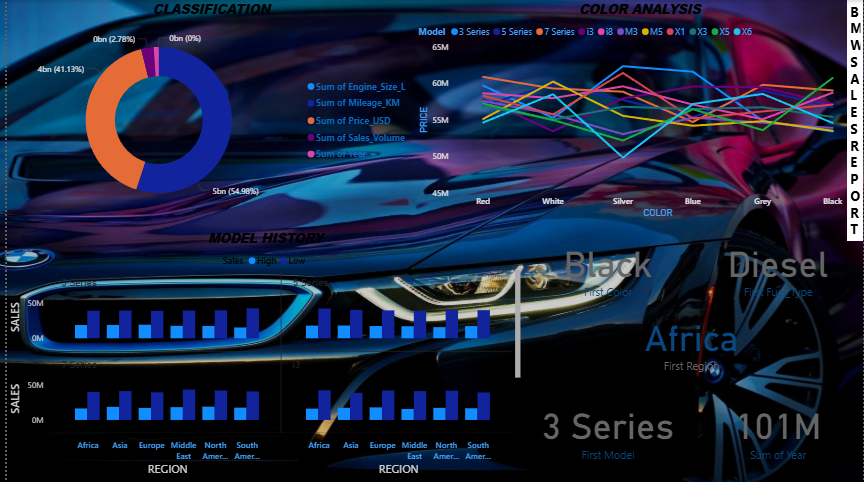

The page's visual inventory and layout, read from the dashboard file:
{"tool":"powerbi","page":{"name":"Page 1","canvas":[1280,720],"ordinal":0},"visuals":[{"type":"donutChart","title":"CLASSIFICATION","fields":{"Y":["Sum(BMW_Car_Sales_Classification.Engine_Size_L)","Sum(BMW_Car_Sales_Classification.Mileage_KM)","Sum(BMW_Car_Sales_Classification.Price_USD)","Sum(BMW_Car_Sales_Classification.Sales_Volume)","Sum(BMW_Car_Sales_Classification.Year)"]},"box":[0,0,609.5,331.6],"z":0},{"type":"lineChart","title":"COLOR ANALYSIS","fields":{"Category":["BMW_Car_Sales_Classification.Color"],"Series":["BMW_Car_Sales_Classification.Model"],"Y":["Sum(BMW_Car_Sales_Classification.Price_USD)"]},"box":[609.5,0,670.7,331.6],"z":1000},{"type":"clusteredColumnChart","title":"MODEL HISTORY","fields":{"Category":["BMW_Car_Sales_Classification.Region"],"Series":["BMW_Car_Sales_Classification.Sales_Classification"],"Rows":["BMW_Car_Sales_Classification.Model"],"Y":["Sum(BMW_Car_Sales_Classification.Price_USD)"]},"box":[0,342.1,772.3,377.9],"z":2000},{"type":"card","fields":{"Values":["Min(BMW_Car_Sales_Classification.Model)"]},"box":[772.3,561.7,251,158.3],"z":3000},{"type":"card","fields":{"Values":["Sum(BMW_Car_Sales_Classification.Year)"]},"box":[1023.2,561.7,256.9,158.3],"z":4000},{"type":"card","fields":{"Values":["Min(BMW_Car_Sales_Classification.Color)"]},"box":[772.3,342.1,251,112],"z":5000},{"type":"card","fields":{"Values":["Min(BMW_Car_Sales_Classification.Fuel_Type)"]},"box":[1023.2,342.1,256.9,112],"z":6000},{"type":"card","fields":{"Values":["Min(BMW_Car_Sales_Classification.Region)"]},"box":[800.7,455.6,443.7,106.1],"z":7000},{"type":"textbox","box":[1254.8,0,25.4,360],"z":8000}]}

Visuals, with their boxes in screenshot pixels (x1, y1, x2, y2), scaled from the page's 1280x720 canvas onto the 864x482 screenshot:
"CLASSIFICATION" donutChart: (x1=0, y1=0, x2=411, y2=222)
"COLOR ANALYSIS" lineChart: (x1=411, y1=0, x2=863, y2=222)
"MODEL HISTORY" clusteredColumnChart: (x1=0, y1=229, x2=521, y2=481)
card - Min(BMW_Car_Sales_Classification.Model): (x1=521, y1=376, x2=691, y2=481)
card - Sum(BMW_Car_Sales_Classification.Year): (x1=691, y1=376, x2=863, y2=481)
card - Min(BMW_Car_Sales_Classification.Color): (x1=521, y1=229, x2=691, y2=304)
card - Min(BMW_Car_Sales_Classification.Fuel_Type): (x1=691, y1=229, x2=863, y2=304)
card - Min(BMW_Car_Sales_Classification.Region): (x1=540, y1=305, x2=840, y2=376)
textbox: (x1=847, y1=0, x2=863, y2=241)
